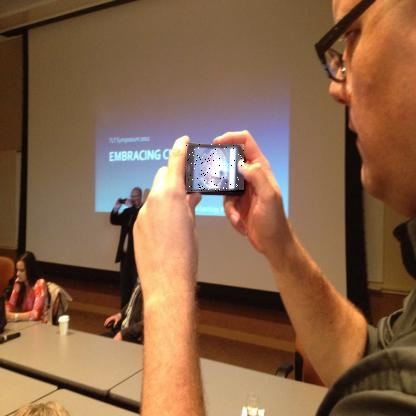Camera: (187, 145, 246, 194)
